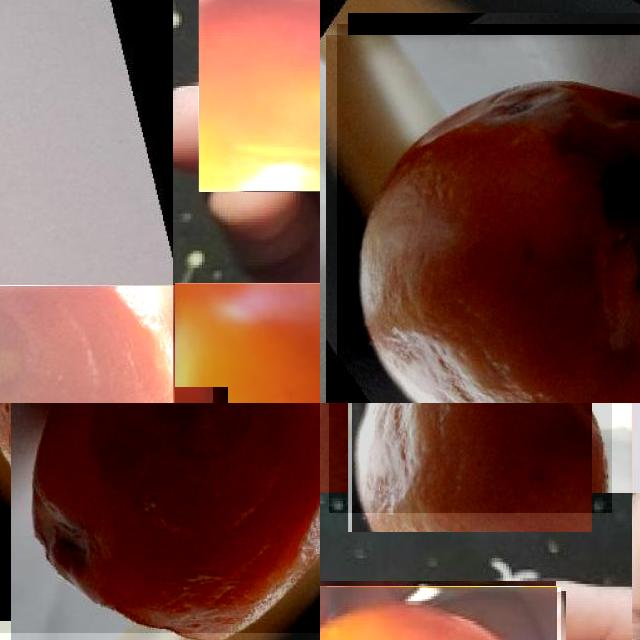Fresh Tomato: (173, 284, 320, 403)
Rotten Tomato: (337, 23, 640, 403), (0, 403, 320, 633), (328, 403, 612, 512), (198, 0, 320, 191), (0, 285, 173, 403)
